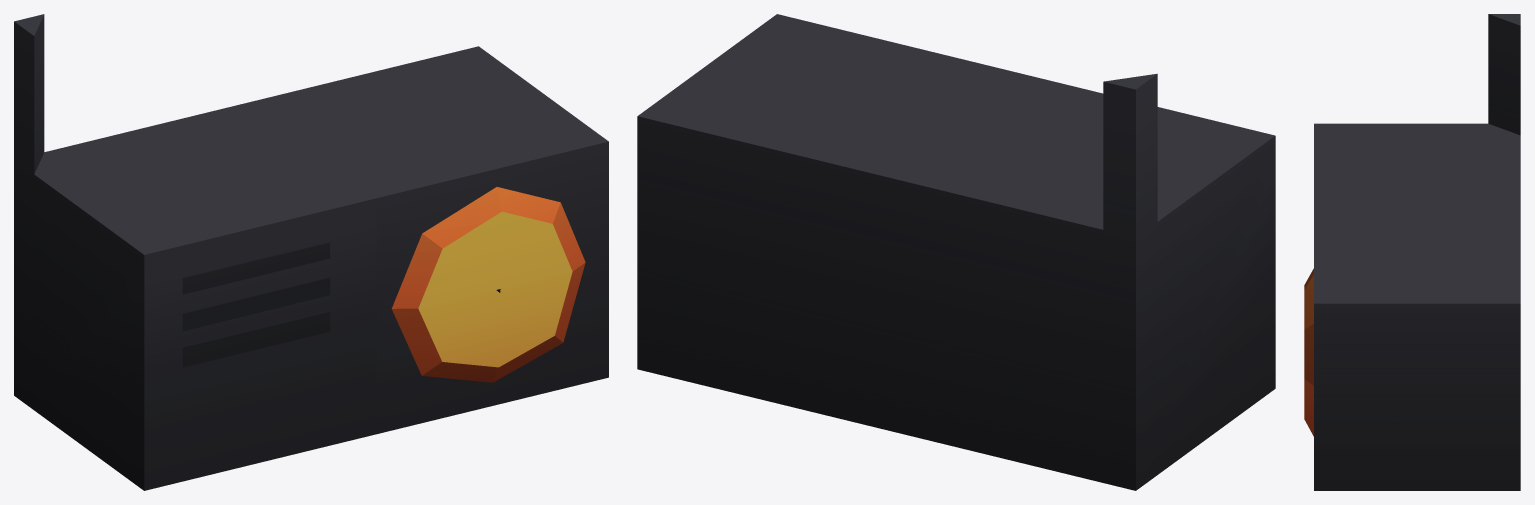
The model's file is Radio.fbx.
3 renders of one model, left to right at view 1: azimuth 30°, elevation 25°; view 2: azimuth 150°, elevation 25°; view 3: azimuth 270°, elevation 25°, orthographic. The views are drawn at different scales.
Parts seen in each view (by area): view 1: Radio; view 2: Radio; view 3: Radio.
Boxes of the visible parts, bbox=[...] form: Radio: bbox=[14, 14, 608, 490]; Radio: bbox=[637, 14, 1275, 490]; Radio: bbox=[1304, 14, 1520, 490].
Size of the model in its own units: 190 by 147 by 96.63.
Materials: 1 (1 with a texture image).
